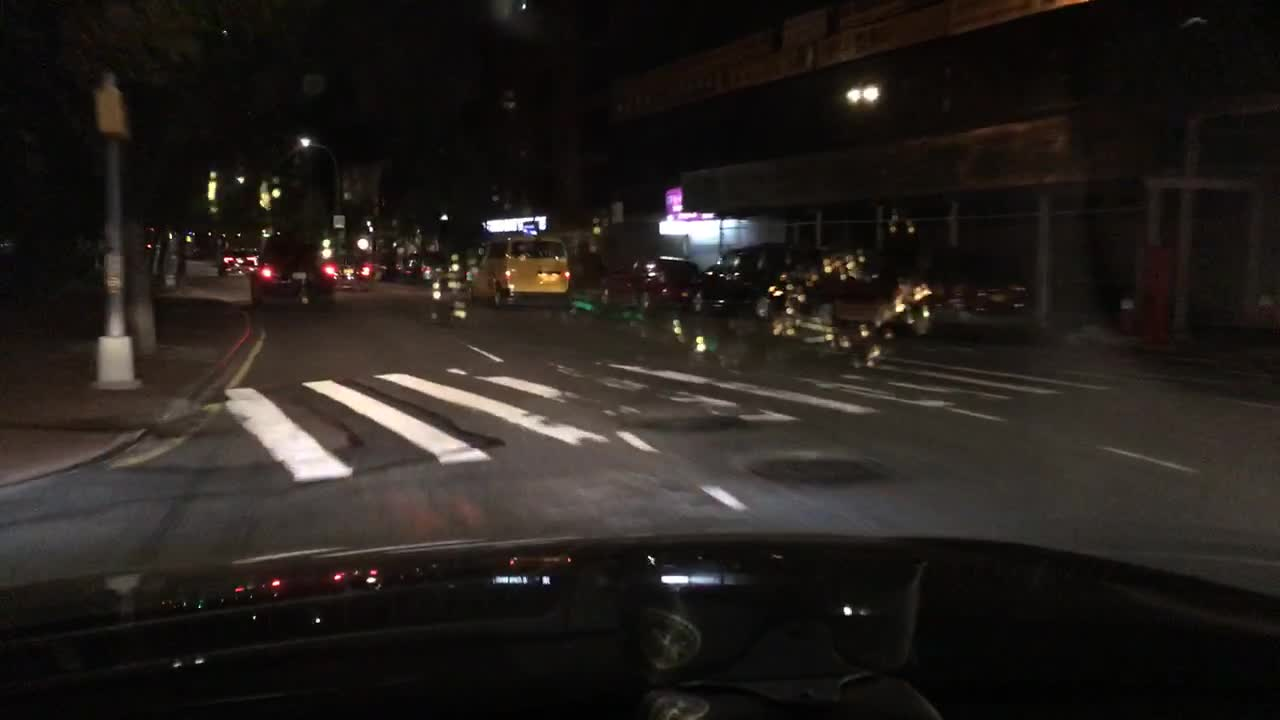car: (762, 238, 1034, 339), (678, 234, 813, 322), (462, 228, 575, 314), (246, 233, 339, 314), (595, 256, 698, 314), (322, 253, 374, 288), (216, 246, 263, 278), (410, 251, 449, 280), (401, 251, 422, 275)
motor: (427, 277, 472, 324)
rider: (433, 253, 469, 305)
